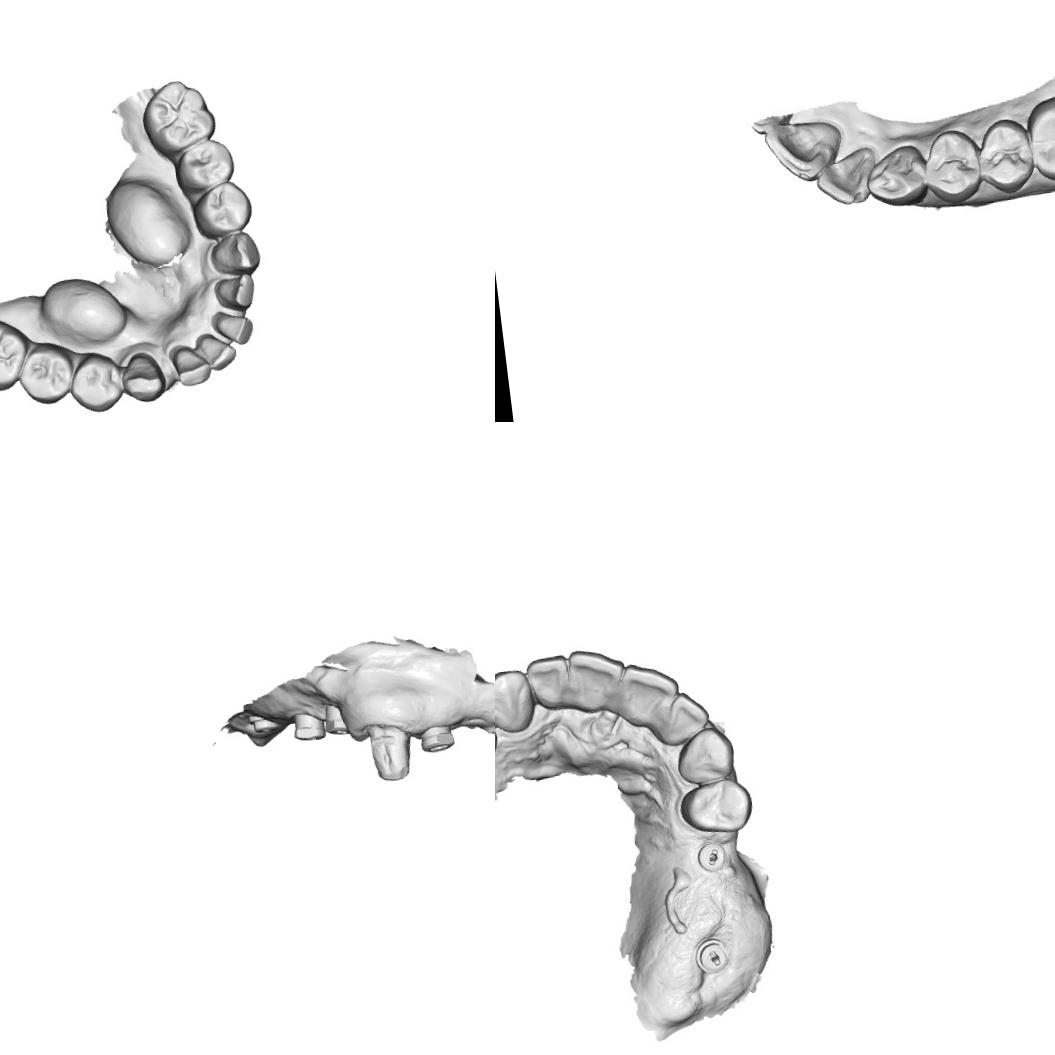canine: (671, 723, 739, 790), (864, 144, 930, 210), (495, 665, 538, 738), (117, 349, 169, 406), (206, 228, 264, 279)
implant: (290, 708, 330, 746), (246, 706, 284, 739), (321, 708, 352, 740)
implant_minus: (692, 935, 732, 977), (416, 721, 458, 756), (694, 838, 732, 876)
incisor: (760, 114, 848, 188), (618, 656, 684, 730), (564, 642, 630, 713), (812, 148, 872, 210), (522, 652, 576, 714), (658, 688, 714, 746), (210, 271, 259, 316), (170, 342, 213, 389), (195, 330, 240, 374), (214, 310, 257, 348)
molar: (136, 75, 219, 158), (1023, 86, 1055, 186), (0, 310, 34, 397)
premolar: (676, 775, 757, 840), (922, 126, 985, 206), (976, 115, 1038, 196), (13, 338, 78, 409), (188, 177, 256, 241), (171, 135, 240, 197), (66, 348, 126, 416)
